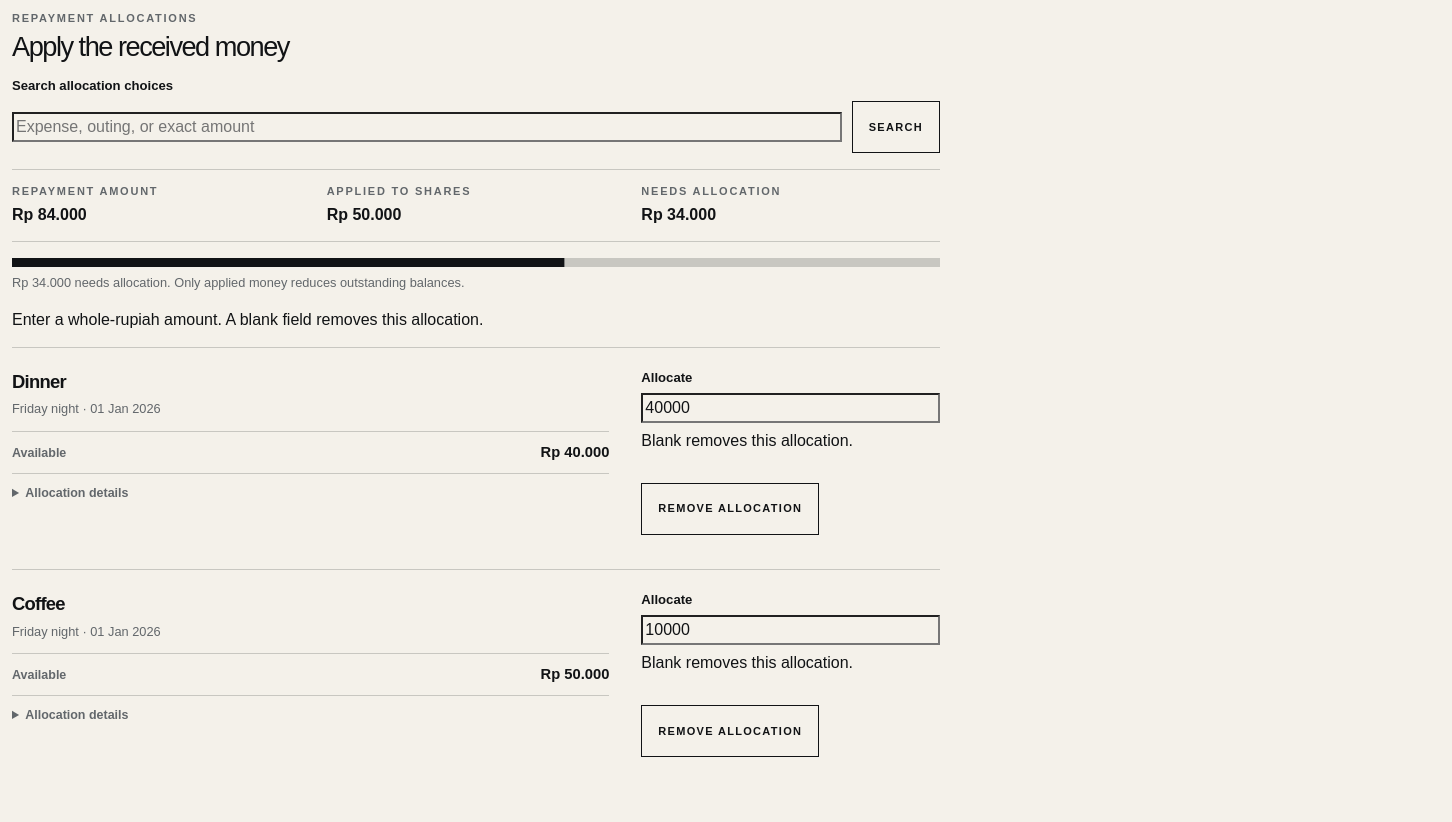
Test: RepaymentAllocationEditor › updates only the removed draft and totals before refreshing, then restores them on Undo
Step 1. Replace the text in the field named "Amount to allocate to Coffee" with "12000" → (791, 630), box [641, 615, 940, 645]
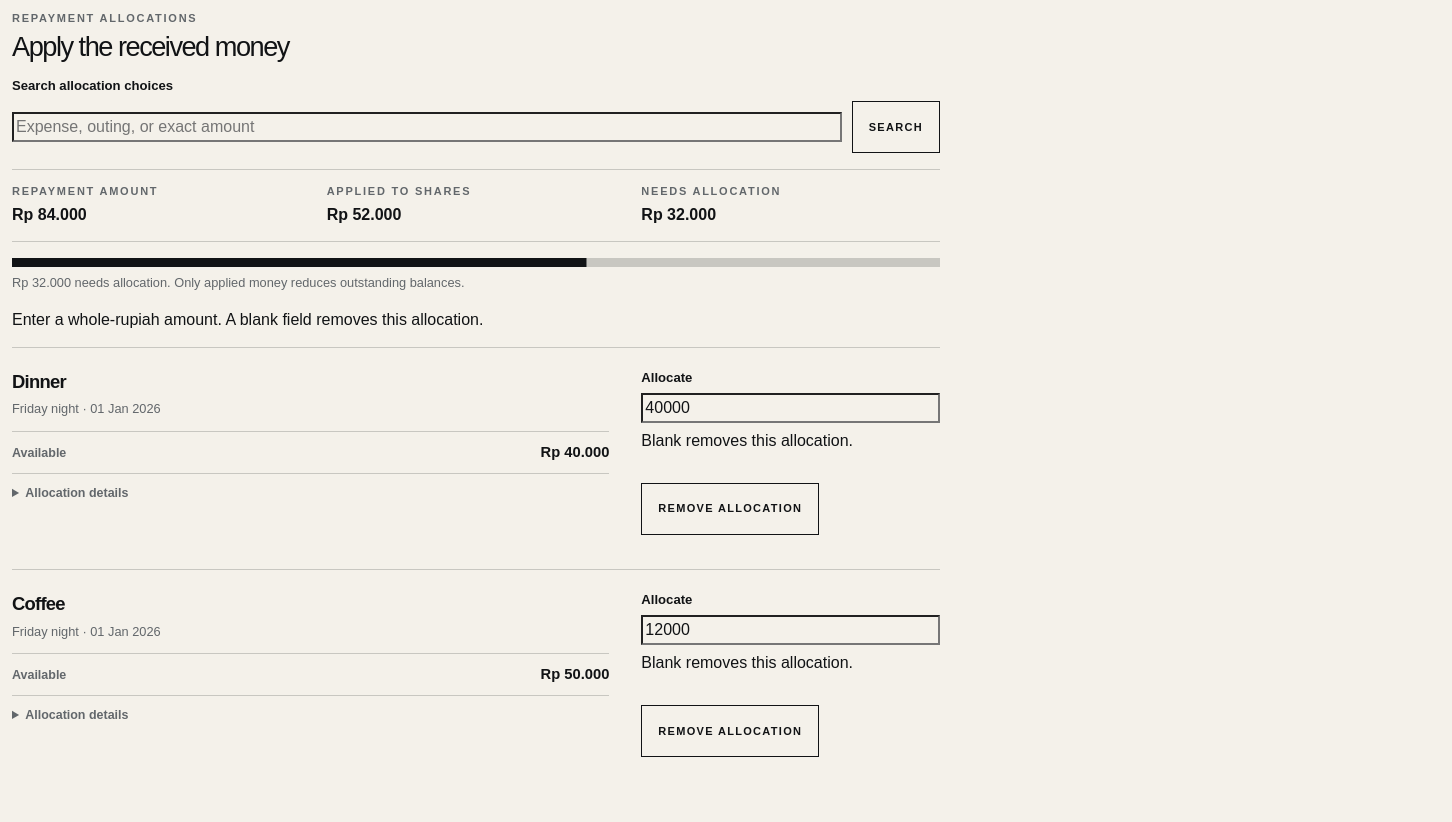
Step 2. Click the button "Remove allocation" below "Rp 40.000" → (730, 508), box [641, 482, 819, 534]
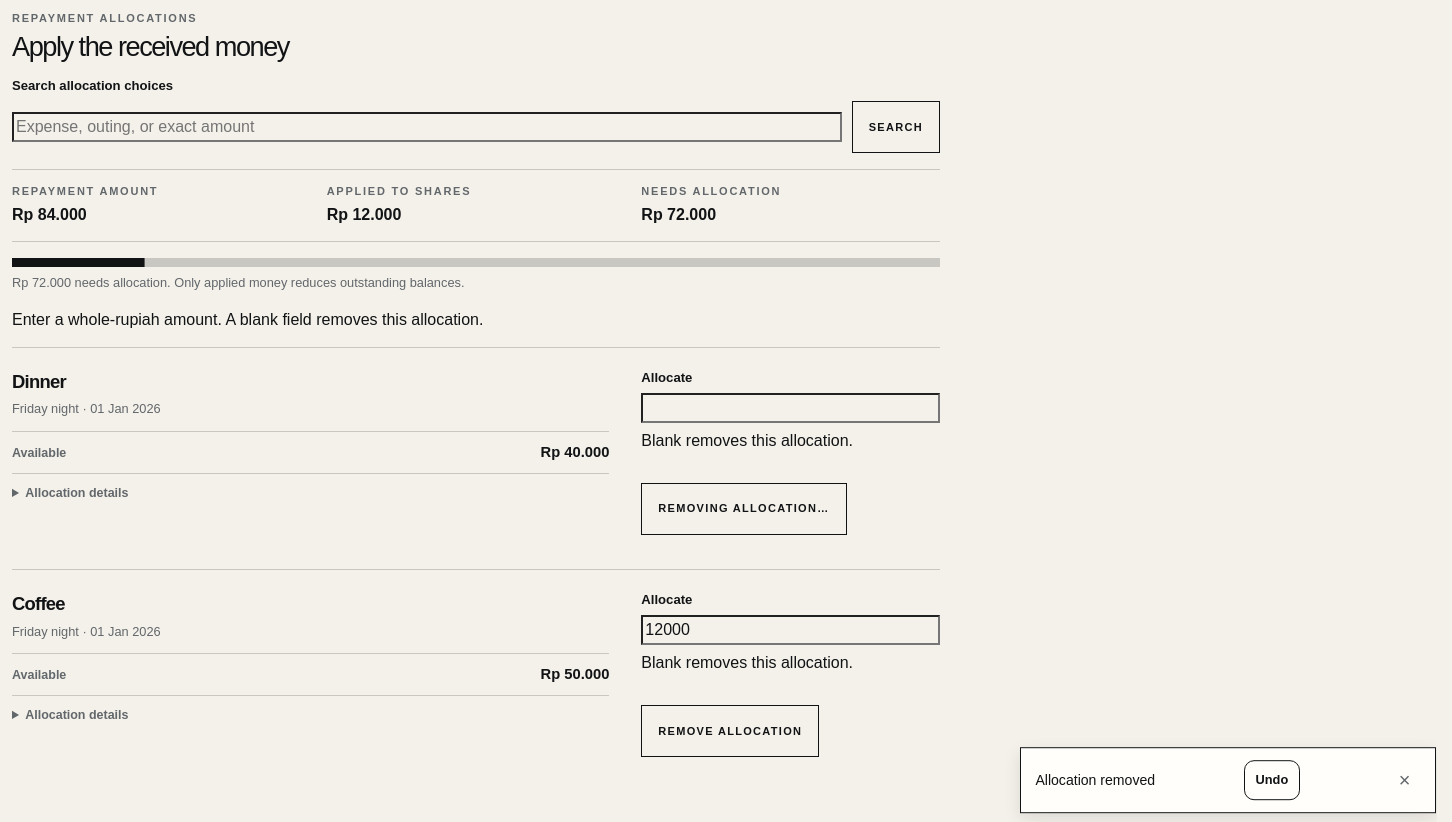
Check: the field named "Amount to allocate to Dinner" is empty, box [641, 393, 940, 423]
Check: the text "Rp 12.000" is shown, box [327, 206, 401, 223]
Check: the text "Rp 72.000" is shown, box [641, 206, 716, 223]
Step 3. Click the button "Undo" → (1272, 780), box [1244, 760, 1300, 800]
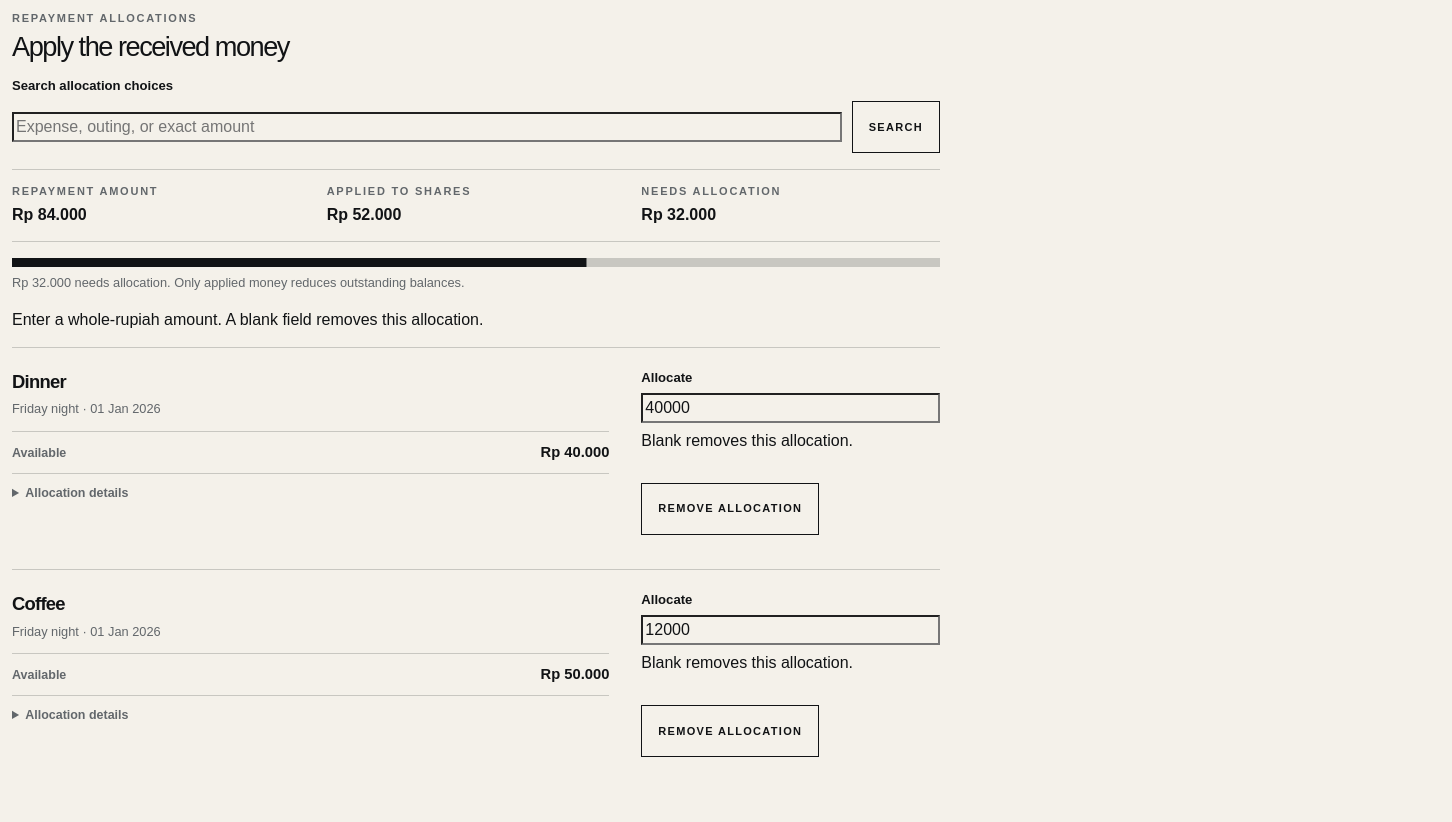
Check: the field named "Amount to allocate to Dinner" holds "40000", box [641, 393, 940, 423]
Check: the text "Rp 32.000" is shown, box [641, 206, 716, 223]
